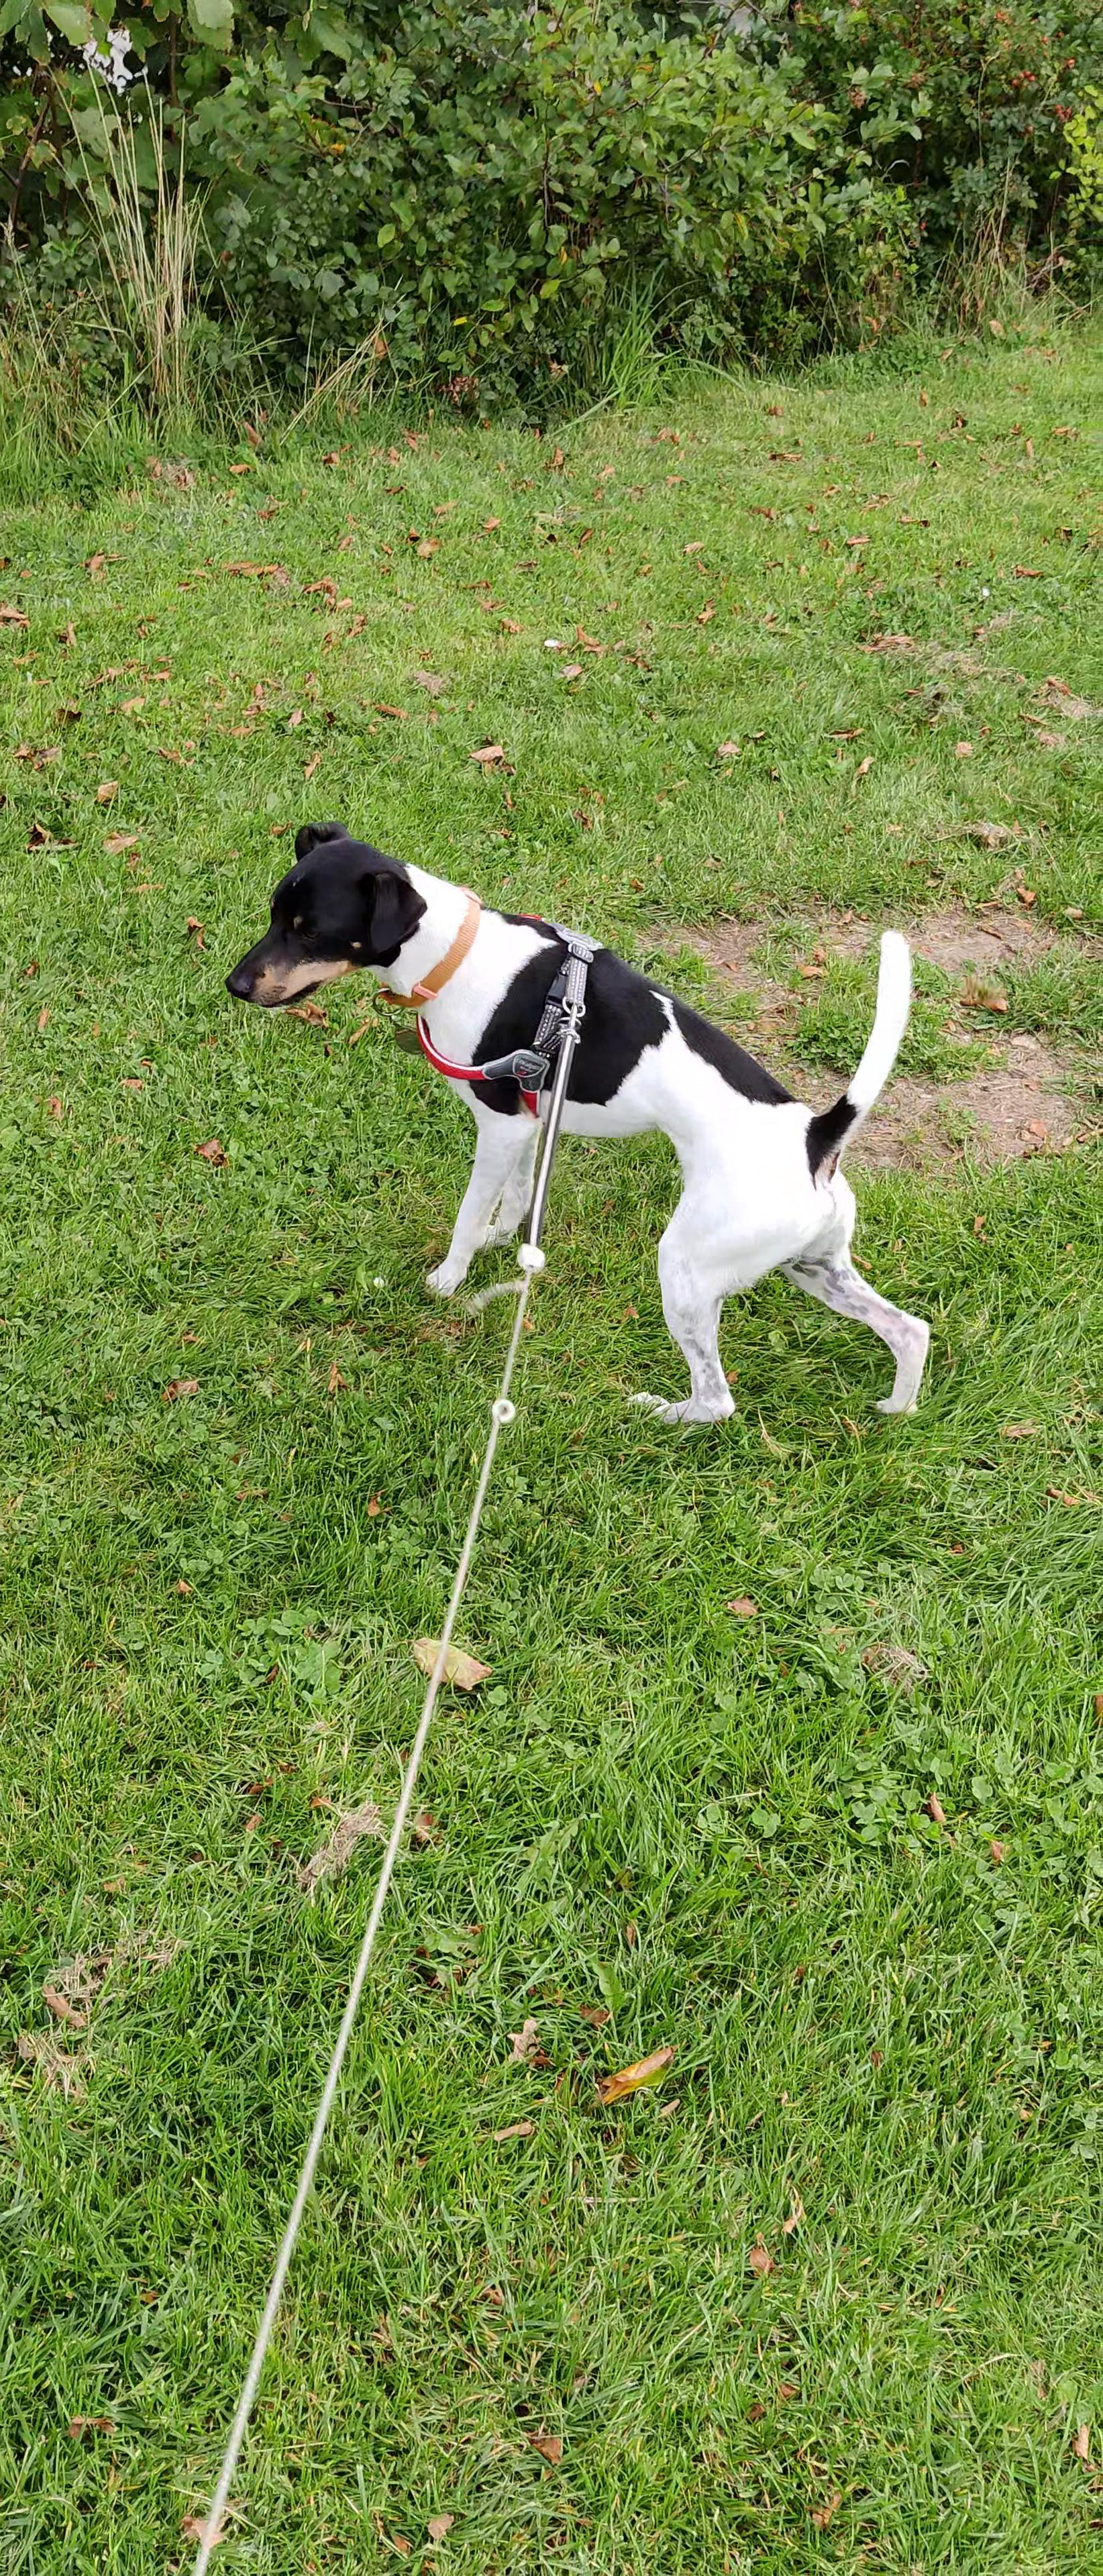Dog: (194, 793, 948, 1437)
